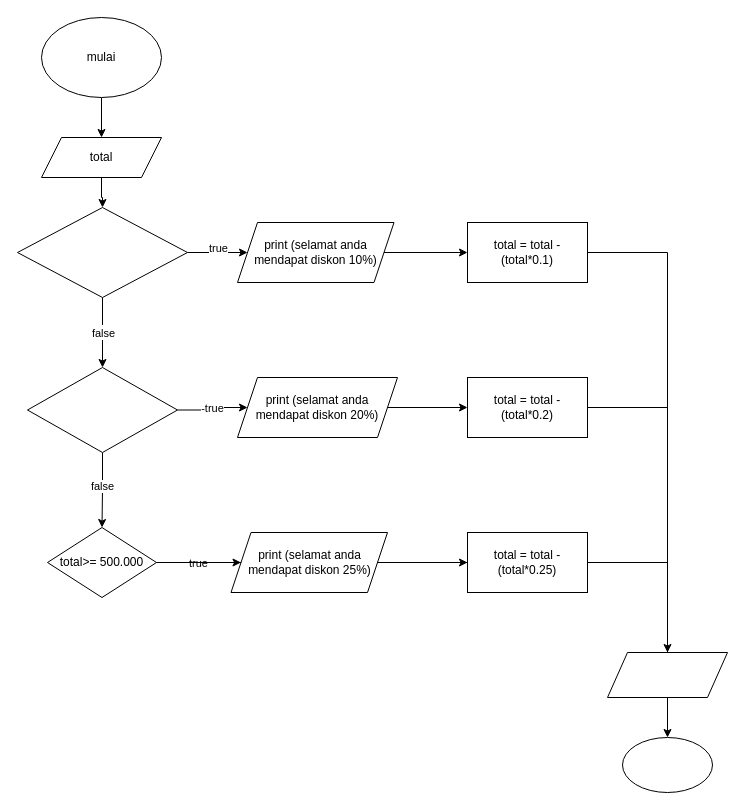
The diagram is 745 pixels wide and 810 high, and some of its shapes have lost their labels. The shapes that lost their labels are listed below. From the top down, each one's centre as x and y in pixels, then its label:
the point at 102,252: total>= 100.000 AND total<= 300.000
the point at 102,409: total>= 300.001 AND total<= 500.000
the point at 667,675: print (total)
the point at 667,764: selesai
